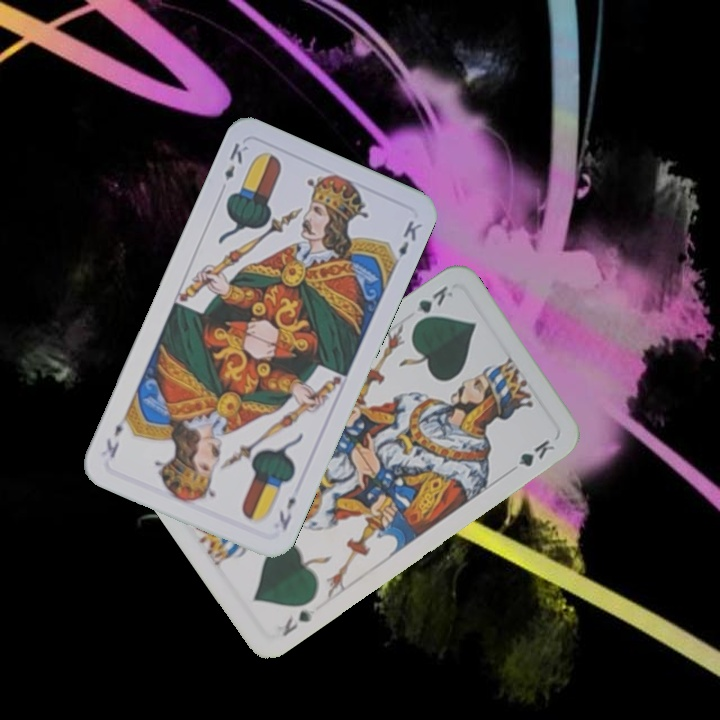EK: (220, 138, 251, 183), (274, 493, 299, 533)
GK: (409, 281, 456, 328), (278, 604, 318, 640)
